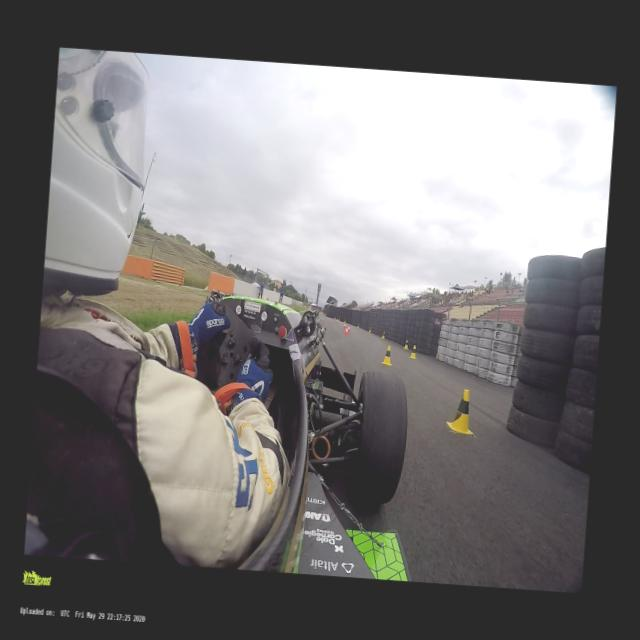orange_cone: (342, 327, 348, 337), (342, 322, 346, 329), (347, 324, 350, 332)
yellow_cone: (444, 388, 476, 434), (380, 344, 392, 366), (408, 344, 416, 360), (404, 340, 408, 350), (381, 332, 385, 339), (368, 327, 371, 332), (358, 322, 360, 327)
